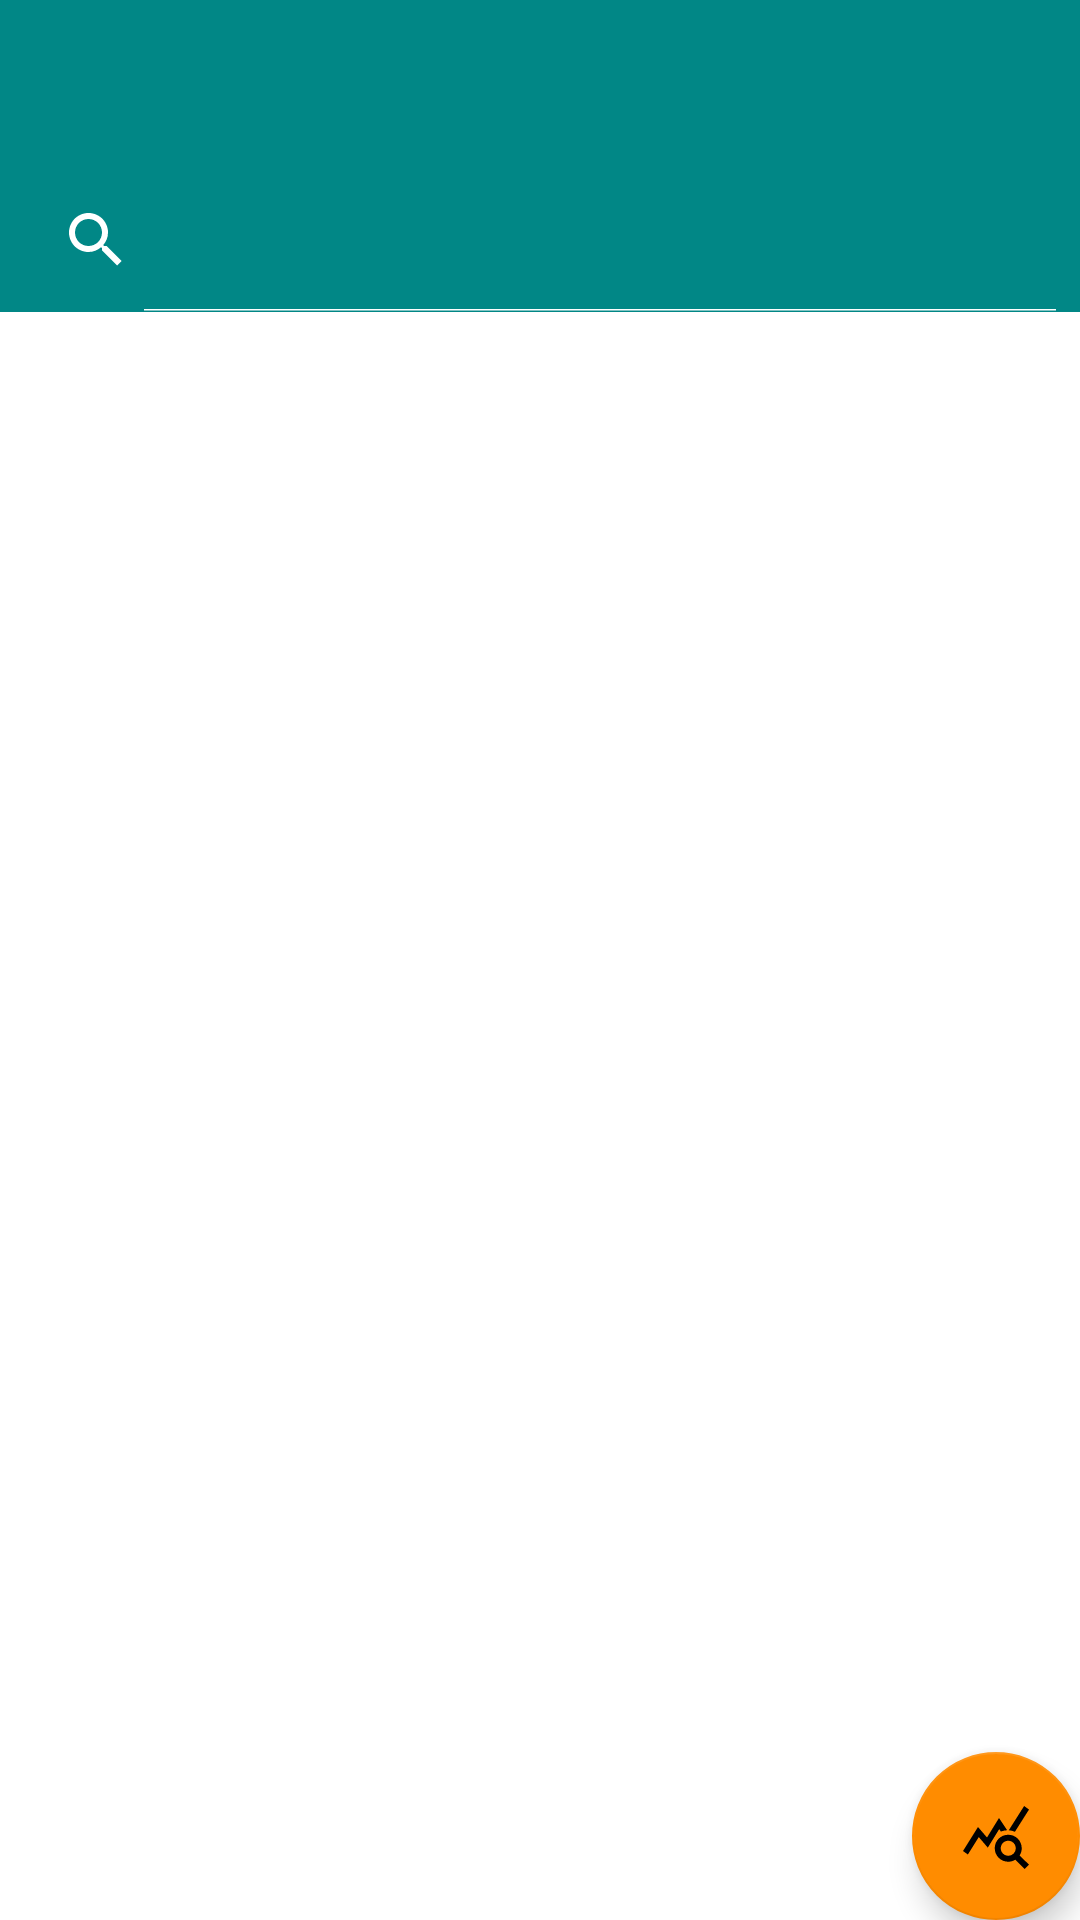

Named icons in this screenshot (1080x1920) and their centers, (x,y):
query stats: (996,1836)
